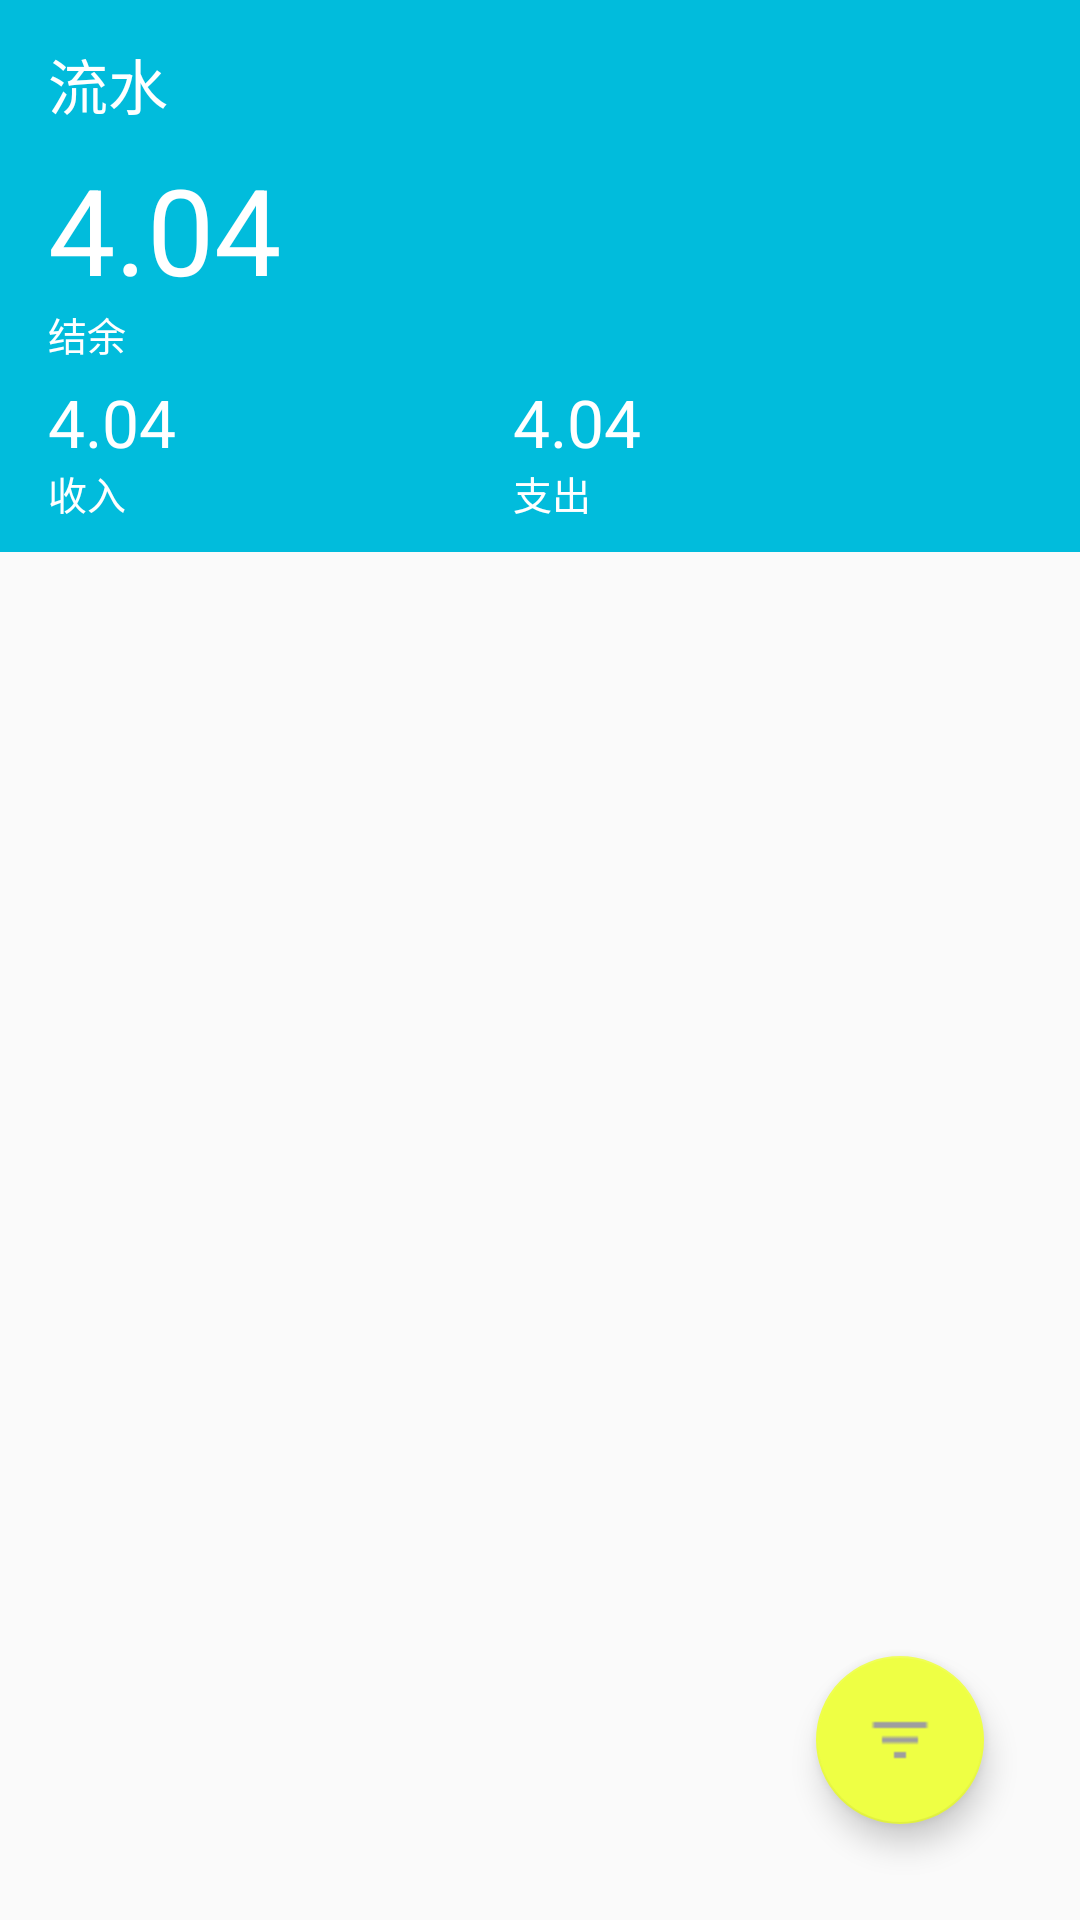

Locate icon controls on the screen. Image size 1080px×1920px, boxes as {"left": x1, "top": y1, "right": x2, "bottom": y2}.
filter list: {"left": 816, "top": 1656, "right": 984, "bottom": 1824}
